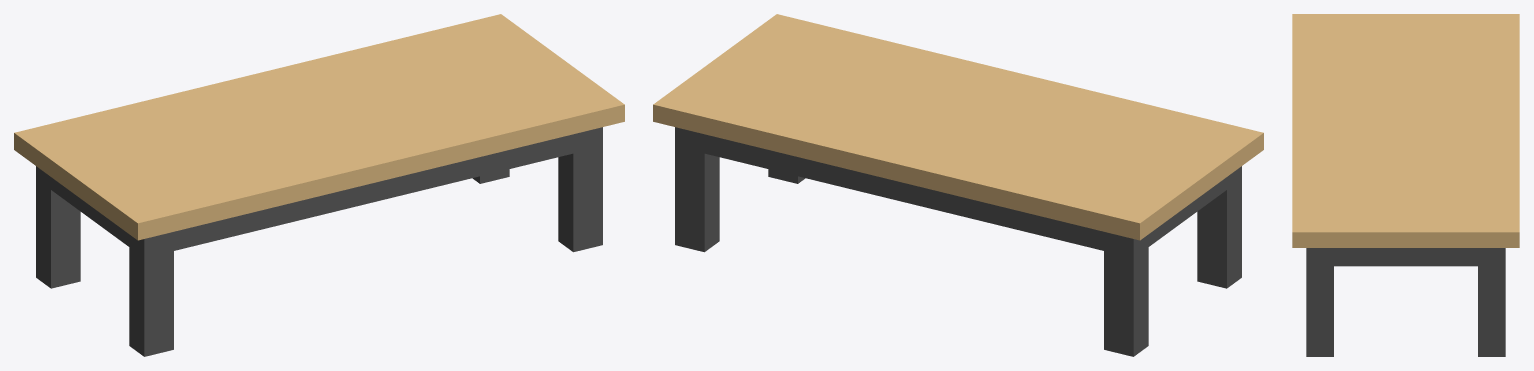
The model's file is Table_1.FBX.
The picture shows the model from 3 angles, left to right: view 1: azimuth 30°, elevation 25°; view 2: azimuth 150°, elevation 25°; view 3: azimuth 270°, elevation 25°; orthographic projection. The views are drawn at different scales.
Visible parts, largest first — view 1: Box002; view 2: Box002; view 3: Box002.
Part boxes in pixels (x1,y1,x2,y2): Box002: (14,14,624,356); Box002: (653,14,1263,356); Box002: (1292,14,1519,356).
Bounding box in the file's own units: 76.12 × 21.31 × 33.51.
Materials: 1 (1 with a texture image).
